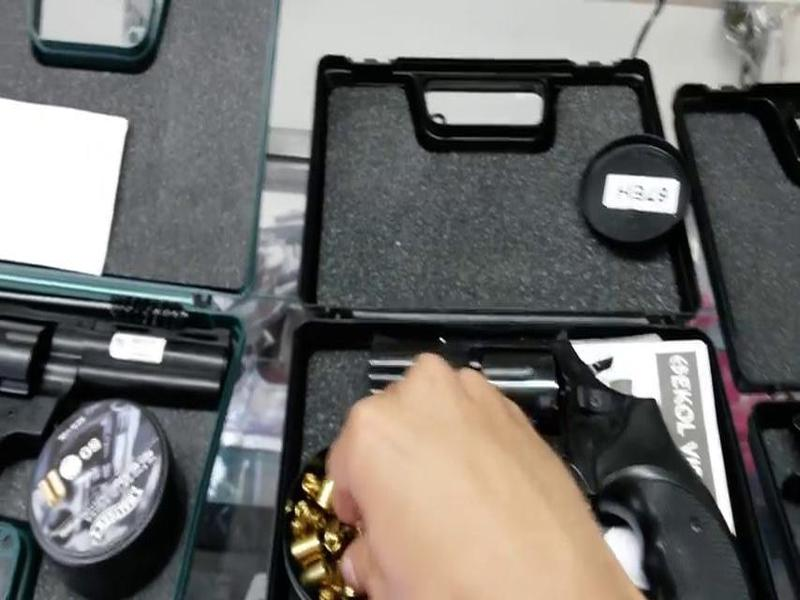Revolver: (336, 293, 715, 600)
